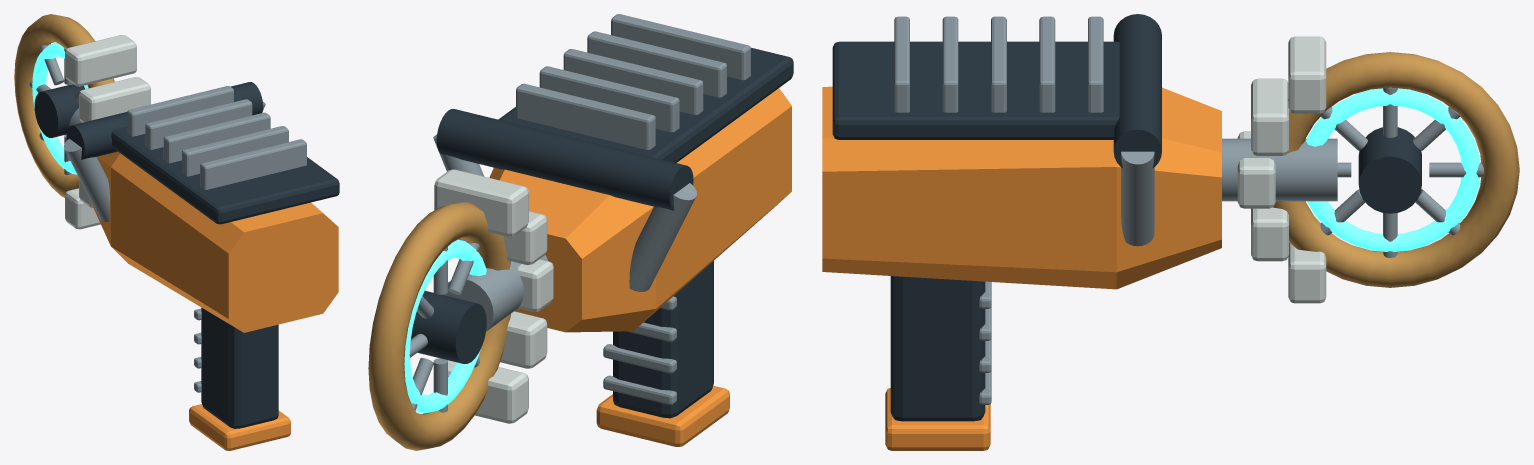
Rendered from ebaki_cutter.glb.
3 views of the same model, side by side, from view 1: azimuth 30°, elevation 25°; view 2: azimuth 150°, elevation 25°; view 3: azimuth 270°, elevation 25° (orthographic). The views are drawn at different scales.
Parts seen in each view (by area): view 1: ebaki_cutter_mesh, Cutter_ring_mesh; view 2: ebaki_cutter_mesh, Cutter_ring_mesh; view 3: ebaki_cutter_mesh, Cutter_ring_mesh.
Part boxes in pixels (x1,y1,x2,y2): ebaki_cutter_mesh: [64, 35, 339, 450]; Cutter_ring_mesh: [14, 14, 114, 197]; ebaki_cutter_mesh: [433, 14, 793, 446]; Cutter_ring_mesh: [368, 202, 510, 450]; ebaki_cutter_mesh: [822, 14, 1337, 450]; Cutter_ring_mesh: [1273, 52, 1519, 287].
Size of the model in its own units: 0.2889 by 0.4018 by 0.663.
